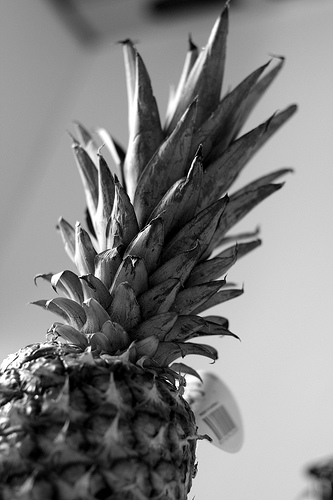pineapple: (1, 0, 299, 498)
